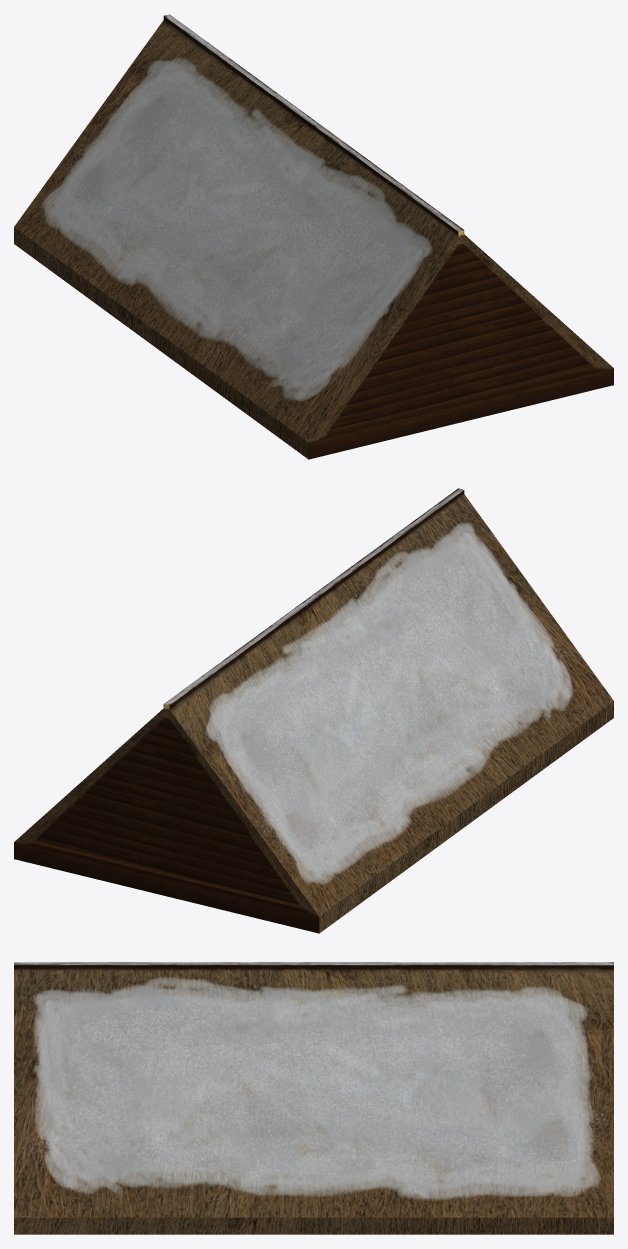
The model's file is Roof 1.fbx.
3 renders of one model, top to bottom at view 1: azimuth 30°, elevation 25°; view 2: azimuth 150°, elevation 25°; view 3: azimuth 270°, elevation 25°, orthographic.
Visible parts, largest first — view 1: Roof_1; view 2: Roof_1; view 3: Roof_1.
Part boxes in pixels (x1,y1,x2,y2): Roof_1: [14, 14, 613, 459]; Roof_1: [14, 488, 613, 933]; Roof_1: [14, 962, 613, 1234].
Size of the model in its own units: 7.38 by 4.42 by 12.34.
